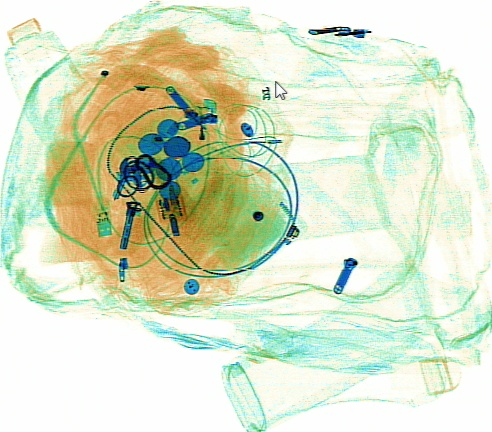lighter: (198, 96, 224, 192)
